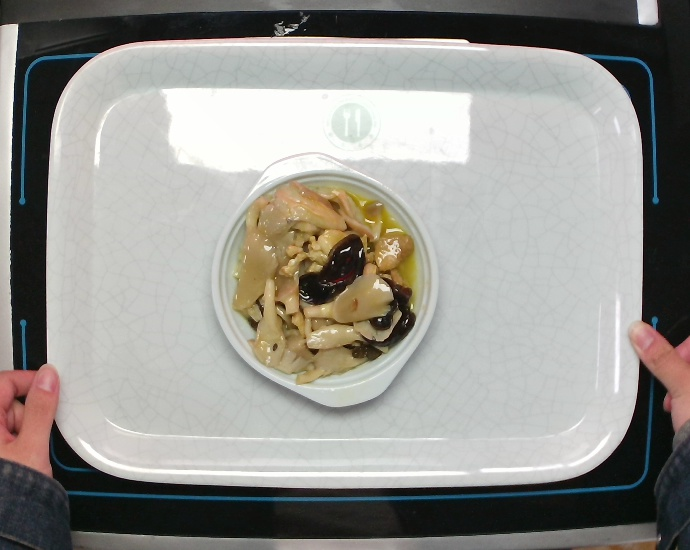JYsf-Shuang_Er_Pan: (208, 149, 441, 409)
